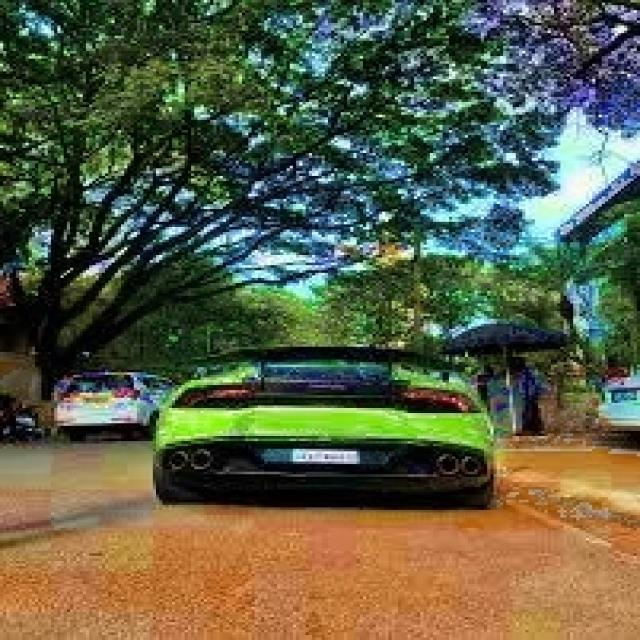green: (152, 344, 502, 513)
